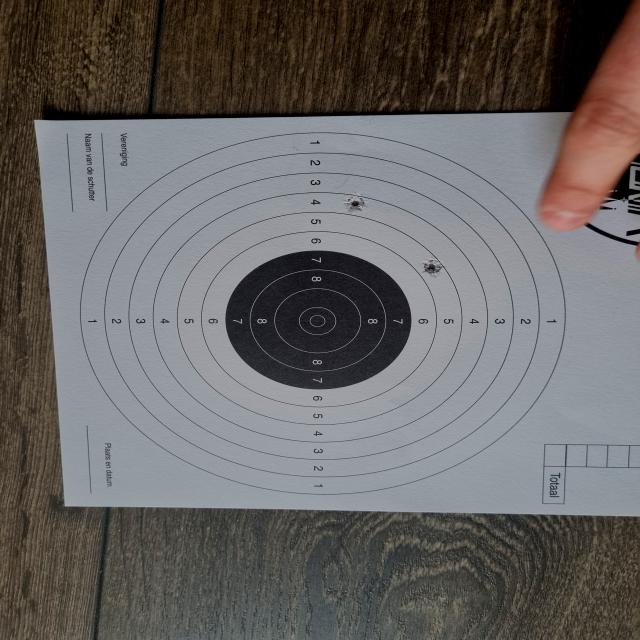4: (344, 195, 368, 212)
5: (422, 260, 444, 276)
Target: (76, 129, 568, 495)
black_contour: (224, 251, 411, 388)
